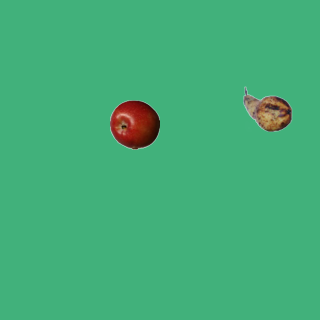Apple Braeburn: (109, 99, 159, 149)
Pear Abate: (242, 84, 292, 134)
